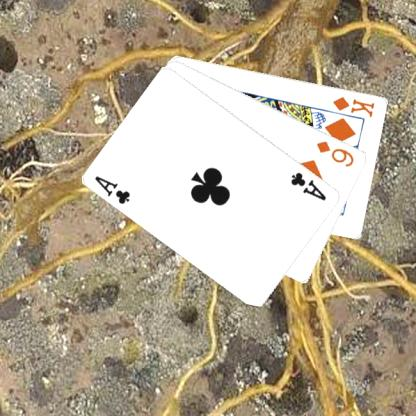6D: (314, 138, 356, 168)
AC: (92, 173, 133, 206), (288, 169, 328, 202)
KD: (330, 93, 376, 118)
